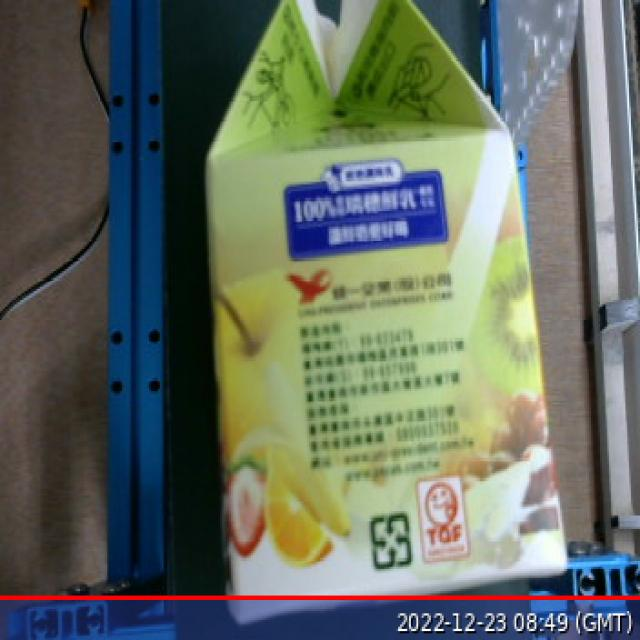non_white_jug: (180, 0, 590, 635)
